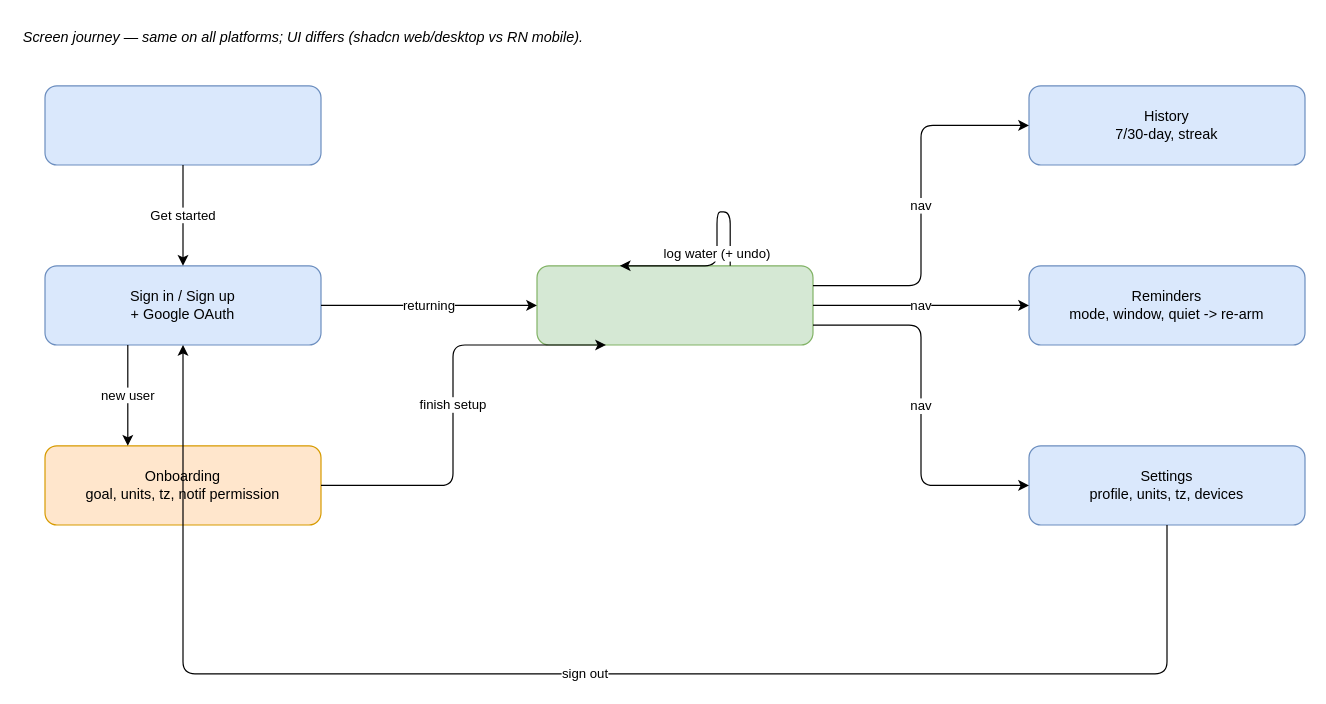
Image size: 1326x704. Some labels were removed from this diagram. Each missing label, with the centre of its shape:
Dashboard (home) ring, quick-add, recent: the point at 674,305
Landing (web only): the point at 182,125
